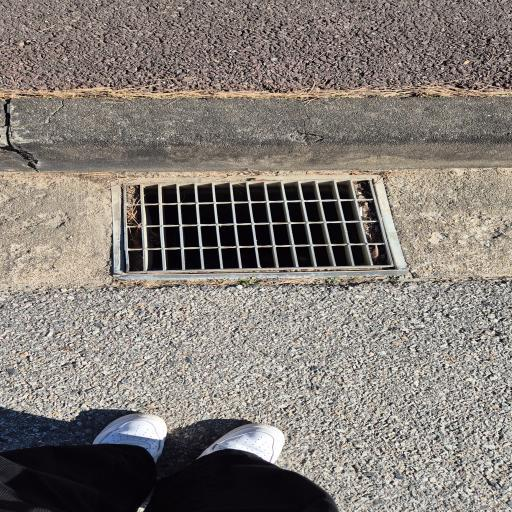debris: (127, 187, 139, 228), (363, 202, 372, 220), (365, 224, 373, 238), (357, 184, 364, 197), (374, 246, 379, 259)
drain: (110, 174, 408, 280)
